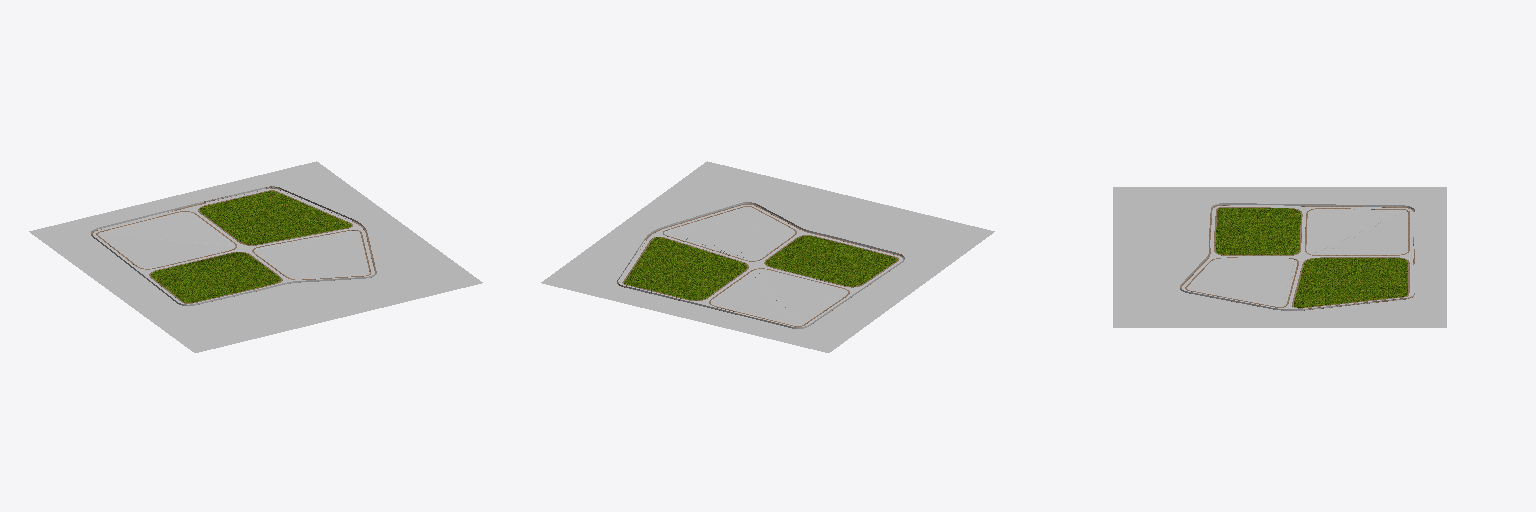
3 renders of one model, left to right at view 1: azimuth 30°, elevation 25°; view 2: azimuth 150°, elevation 25°; view 3: azimuth 270°, elevation 25°, orthographic.
Parts seen in each view (by area): view 1: eee; view 2: eee; view 3: eee.
Part boxes in pixels (x1,y1,x2,y2): eee: (29,161,482,352); eee: (541,161,994,352); eee: (1113,187,1446,327).
Bounding box in the file's own units: 733 × 6.6 × 733.
Materials: 9 (2 with a texture image).